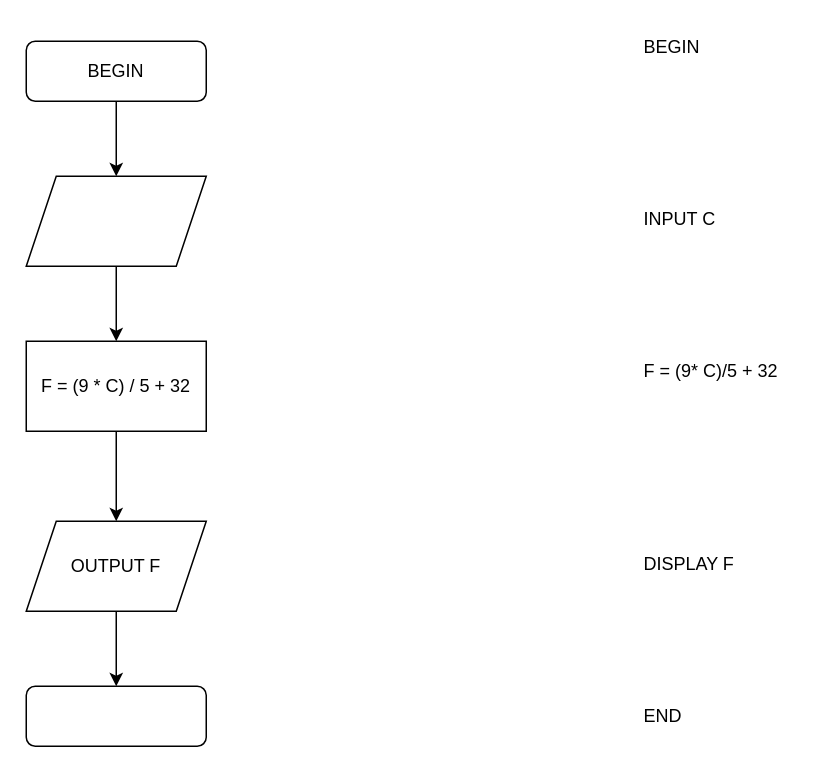
Some shapes in this 833 by 773 pixel diagram are drawn without their labels. The centre of each missing label's shape, as x and y in pixels:
"END" goes at point 115,715.
"INPUT C" goes at point 115,220.
